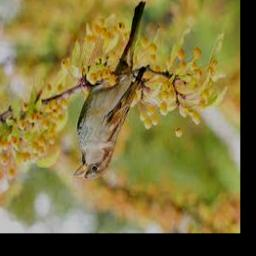Sparrow: (74, 1, 146, 181)
